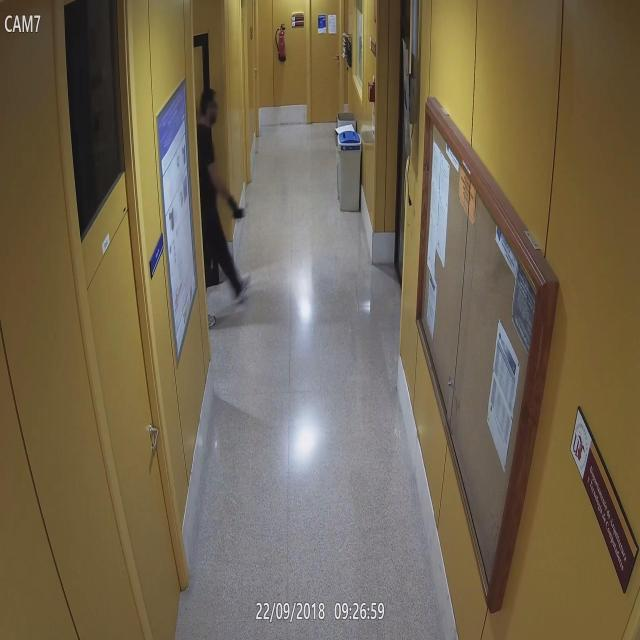pistol: (226, 190, 250, 232)
